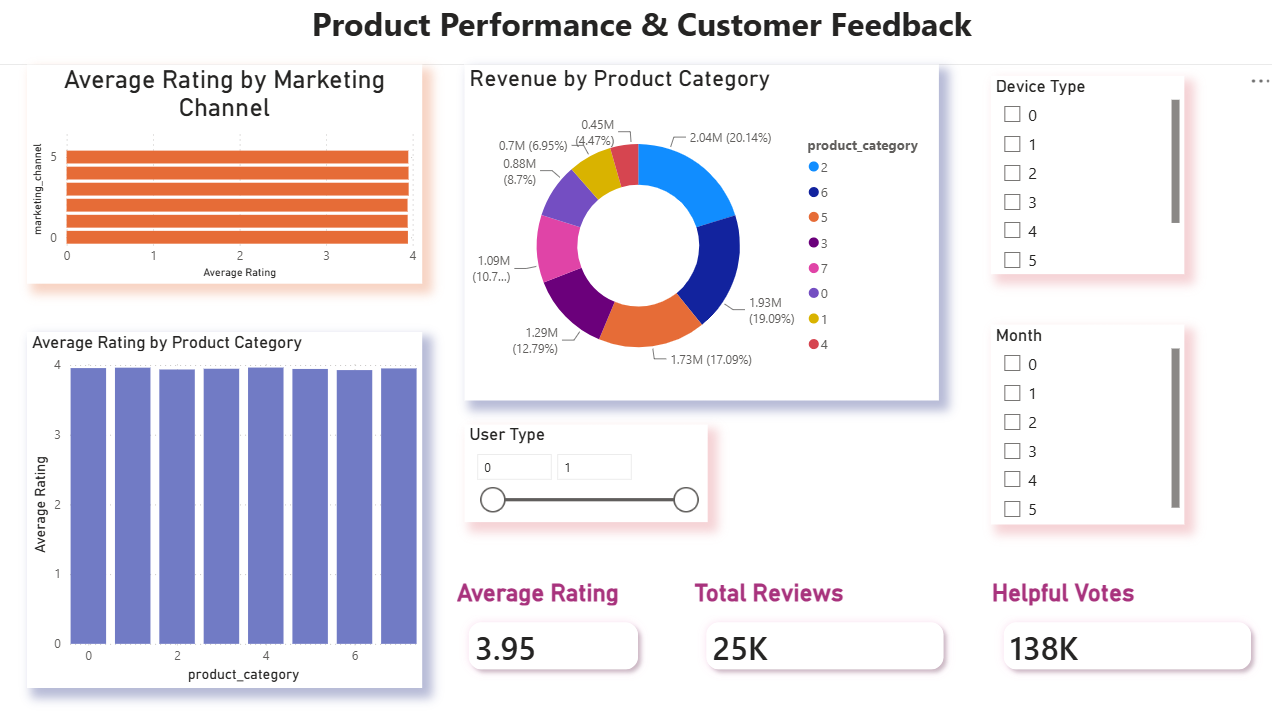

The page's visual inventory and layout, read from the dashboard file:
{"tool":"powerbi","page":{"name":"Product Performance & Customer Feedback","canvas":[1280,720],"ordinal":3},"visuals":[{"type":"textbox","box":[0,0,1280.5,67.9],"z":0},{"type":"cardVisual","title":"Total Reviews","fields":{"Data":["indian_ecommerce_cleaned.Total Reviews"]},"box":[692.2,581.8,271.4,109.1],"z":1000},{"type":"cardVisual","title":"Helpful Votes","fields":{"Data":["indian_ecommerce_cleaned.Total Helpful Votes"]},"box":[989.6,581.8,281.8,109.1],"z":2000},{"type":"cardVisual","title":"Average Rating","fields":{"Data":["indian_ecommerce_cleaned.Average Rating"]},"box":[454.5,581.8,203.9,109.1],"z":3000},{"type":"clusteredBarChart","title":"Average Rating by Marketing Channel","fields":{"Y":["indian_ecommerce_cleaned.Average Rating"],"Category":["indian_ecommerce_cleaned.marketing_channel"]},"box":[29.9,67.5,394.8,219.5],"z":4000},{"type":"slicer","title":"Month","fields":{"Values":["indian_ecommerce_cleaned.marketing_channel"]},"box":[993.5,327.3,193.5,200],"z":5000},{"type":"slicer","title":"Device Type","fields":{"Values":["indian_ecommerce_cleaned.product_category"]},"box":[993.5,79.2,193.5,198.7],"z":6000},{"type":"slicer","title":"User Type","fields":{"Values":["indian_ecommerce_cleaned.user_type"]},"box":[467.5,427.3,242.9,97.4],"z":7000},{"type":"donutChart","title":"Revenue by Product Category","fields":{"Category":["indian_ecommerce_cleaned.product_category"],"Y":["Sum(indian_ecommerce_cleaned.revenue)"]},"box":[467.5,67.5,474,336.4],"z":8000},{"type":"clusteredColumnChart","title":"Average Rating by Product Category","fields":{"Category":["indian_ecommerce_cleaned.product_category"],"Y":["indian_ecommerce_cleaned.Average Rating"]},"box":[29.9,335.1,394.8,355.8],"z":9000}]}

Visuals, with their boxes in screenshot pixels (x1, y1, x2, y2), scaled from the page's 1280x720 canvas onto the 1272x713 screenshot:
textbox: left=0, top=0, right=1271, bottom=67
"Total Reviews" cardVisual: left=688, top=576, right=958, bottom=684
"Helpful Votes" cardVisual: left=983, top=576, right=1263, bottom=684
"Average Rating" cardVisual: left=452, top=576, right=654, bottom=684
"Average Rating by Marketing Channel" clusteredBarChart: left=30, top=67, right=422, bottom=284
"Month" slicer: left=987, top=324, right=1180, bottom=522
"Device Type" slicer: left=987, top=78, right=1180, bottom=275
"User Type" slicer: left=465, top=423, right=706, bottom=520
"Revenue by Product Category" donutChart: left=465, top=67, right=936, bottom=400
"Average Rating by Product Category" clusteredColumnChart: left=30, top=332, right=422, bottom=684
